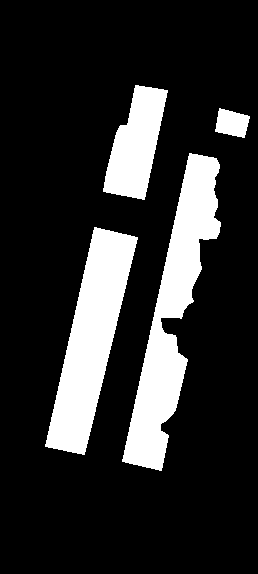parkingspot: (122, 153, 220, 470), (45, 227, 137, 454), (103, 85, 167, 199), (215, 108, 249, 137)
